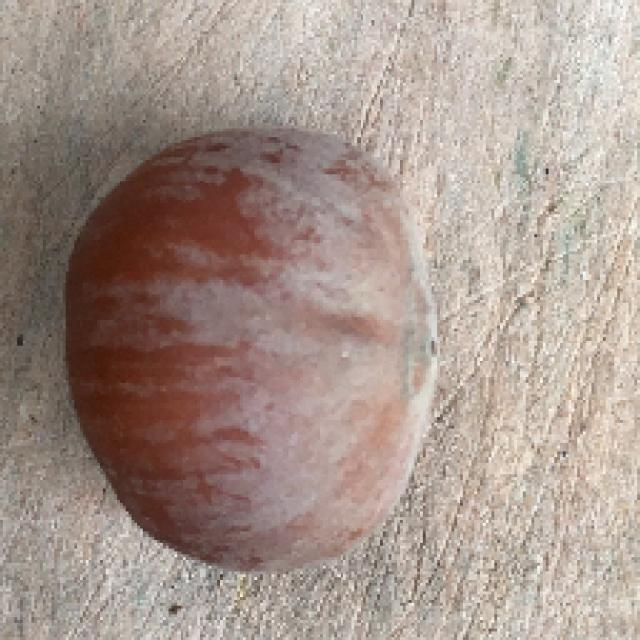qualityHazelnut: (67, 119, 436, 579)
